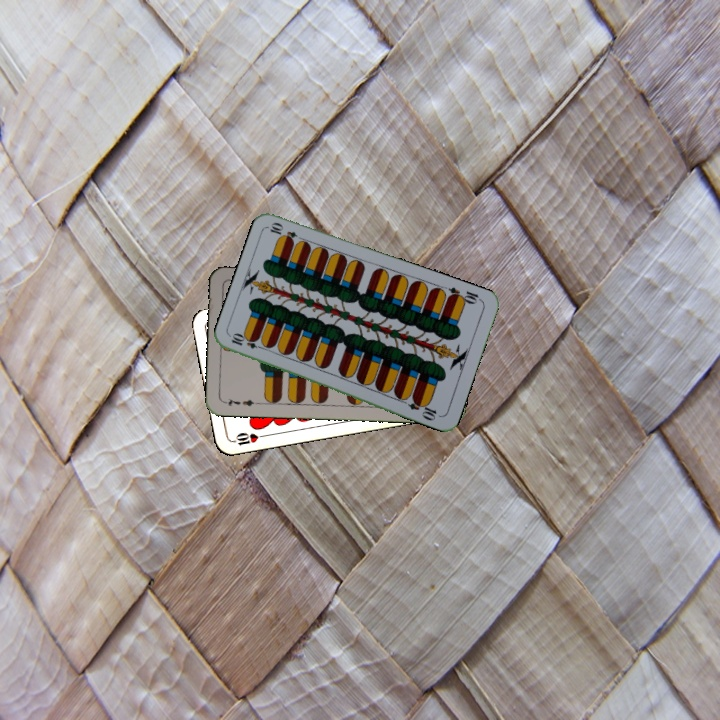E10: (444, 283, 484, 307), (227, 331, 267, 352)
E7: (220, 395, 261, 409)
H10: (227, 428, 268, 448)
